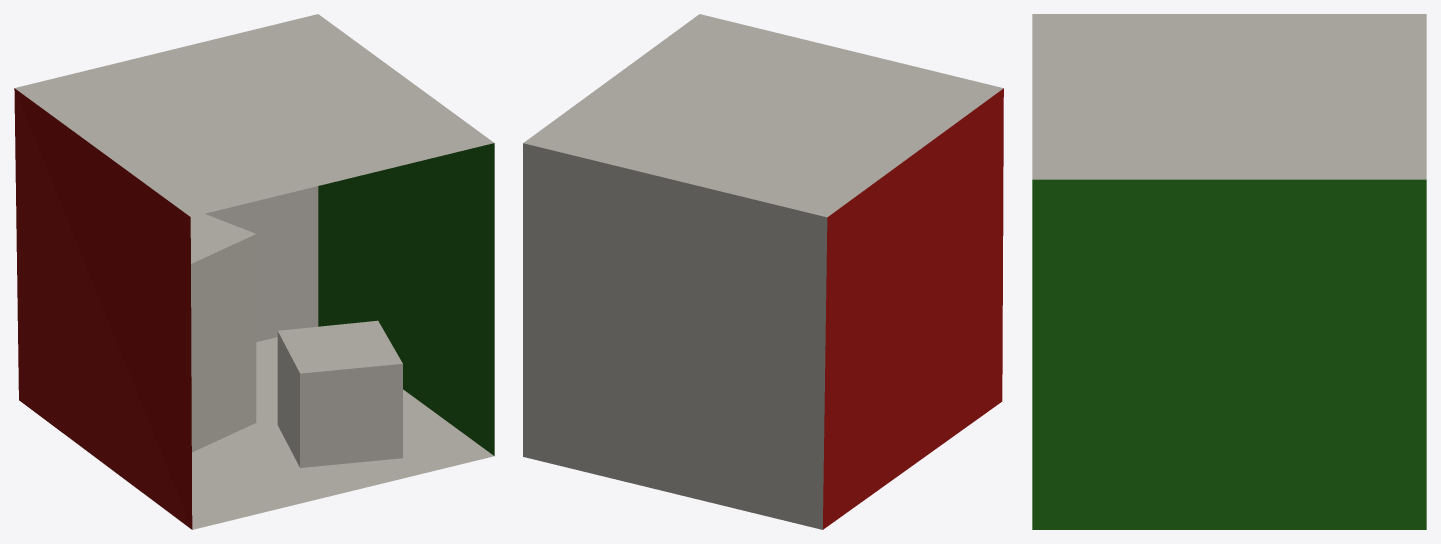
The model's file is CornellBoxSubdivided.glb.
3 views of the same model, side by side, from view 1: azimuth 30°, elevation 25°; view 2: azimuth 150°, elevation 25°; view 3: azimuth 270°, elevation 25° (orthographic). The views are drawn at different scales.
Visible parts, largest first — view 1: leftWall, ceiling, rightWall, floor, shortBox, tallBox, backWall; view 2: backWall, leftWall, ceiling; view 3: rightWall, ceiling.
Part boxes in pixels (<box>): leftWall: <box>14,88,192,529</box>; ceiling: <box>15,14,493,216</box>; rightWall: <box>318,143,494,455</box>; floor: <box>192,337,493,529</box>; shortBox: <box>277,320,402,467</box>; tallBox: <box>190,213,256,452</box>; backWall: <box>205,186,318,342</box>; backWall: <box>523,143,827,529</box>; leftWall: <box>823,88,1003,529</box>; ceiling: <box>523,14,1003,217</box>; rightWall: <box>1032,179,1426,529</box>; ceiling: <box>1032,14,1426,179</box>.
Size of the model in its own units: 2.02 by 1.99 by 2.03.
